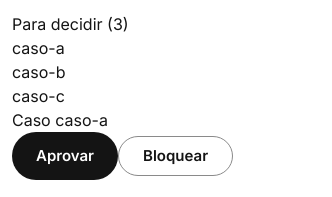
Test: Aprovar / Manter aprovado (AC 31, AC 33; D13; F5, F6, F7) › on ok: the toast (with toast.audit), then /fila/{next} with the tab and length kept
Click the button "Aprovar" at (65, 156), box [12, 132, 118, 180]
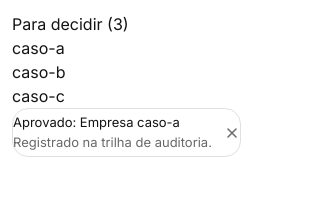
Expected: the element showing "Aprovado: Empresa caso-a Registrado na trilha de auditoria." is shown, [13, 109, 212, 156]
